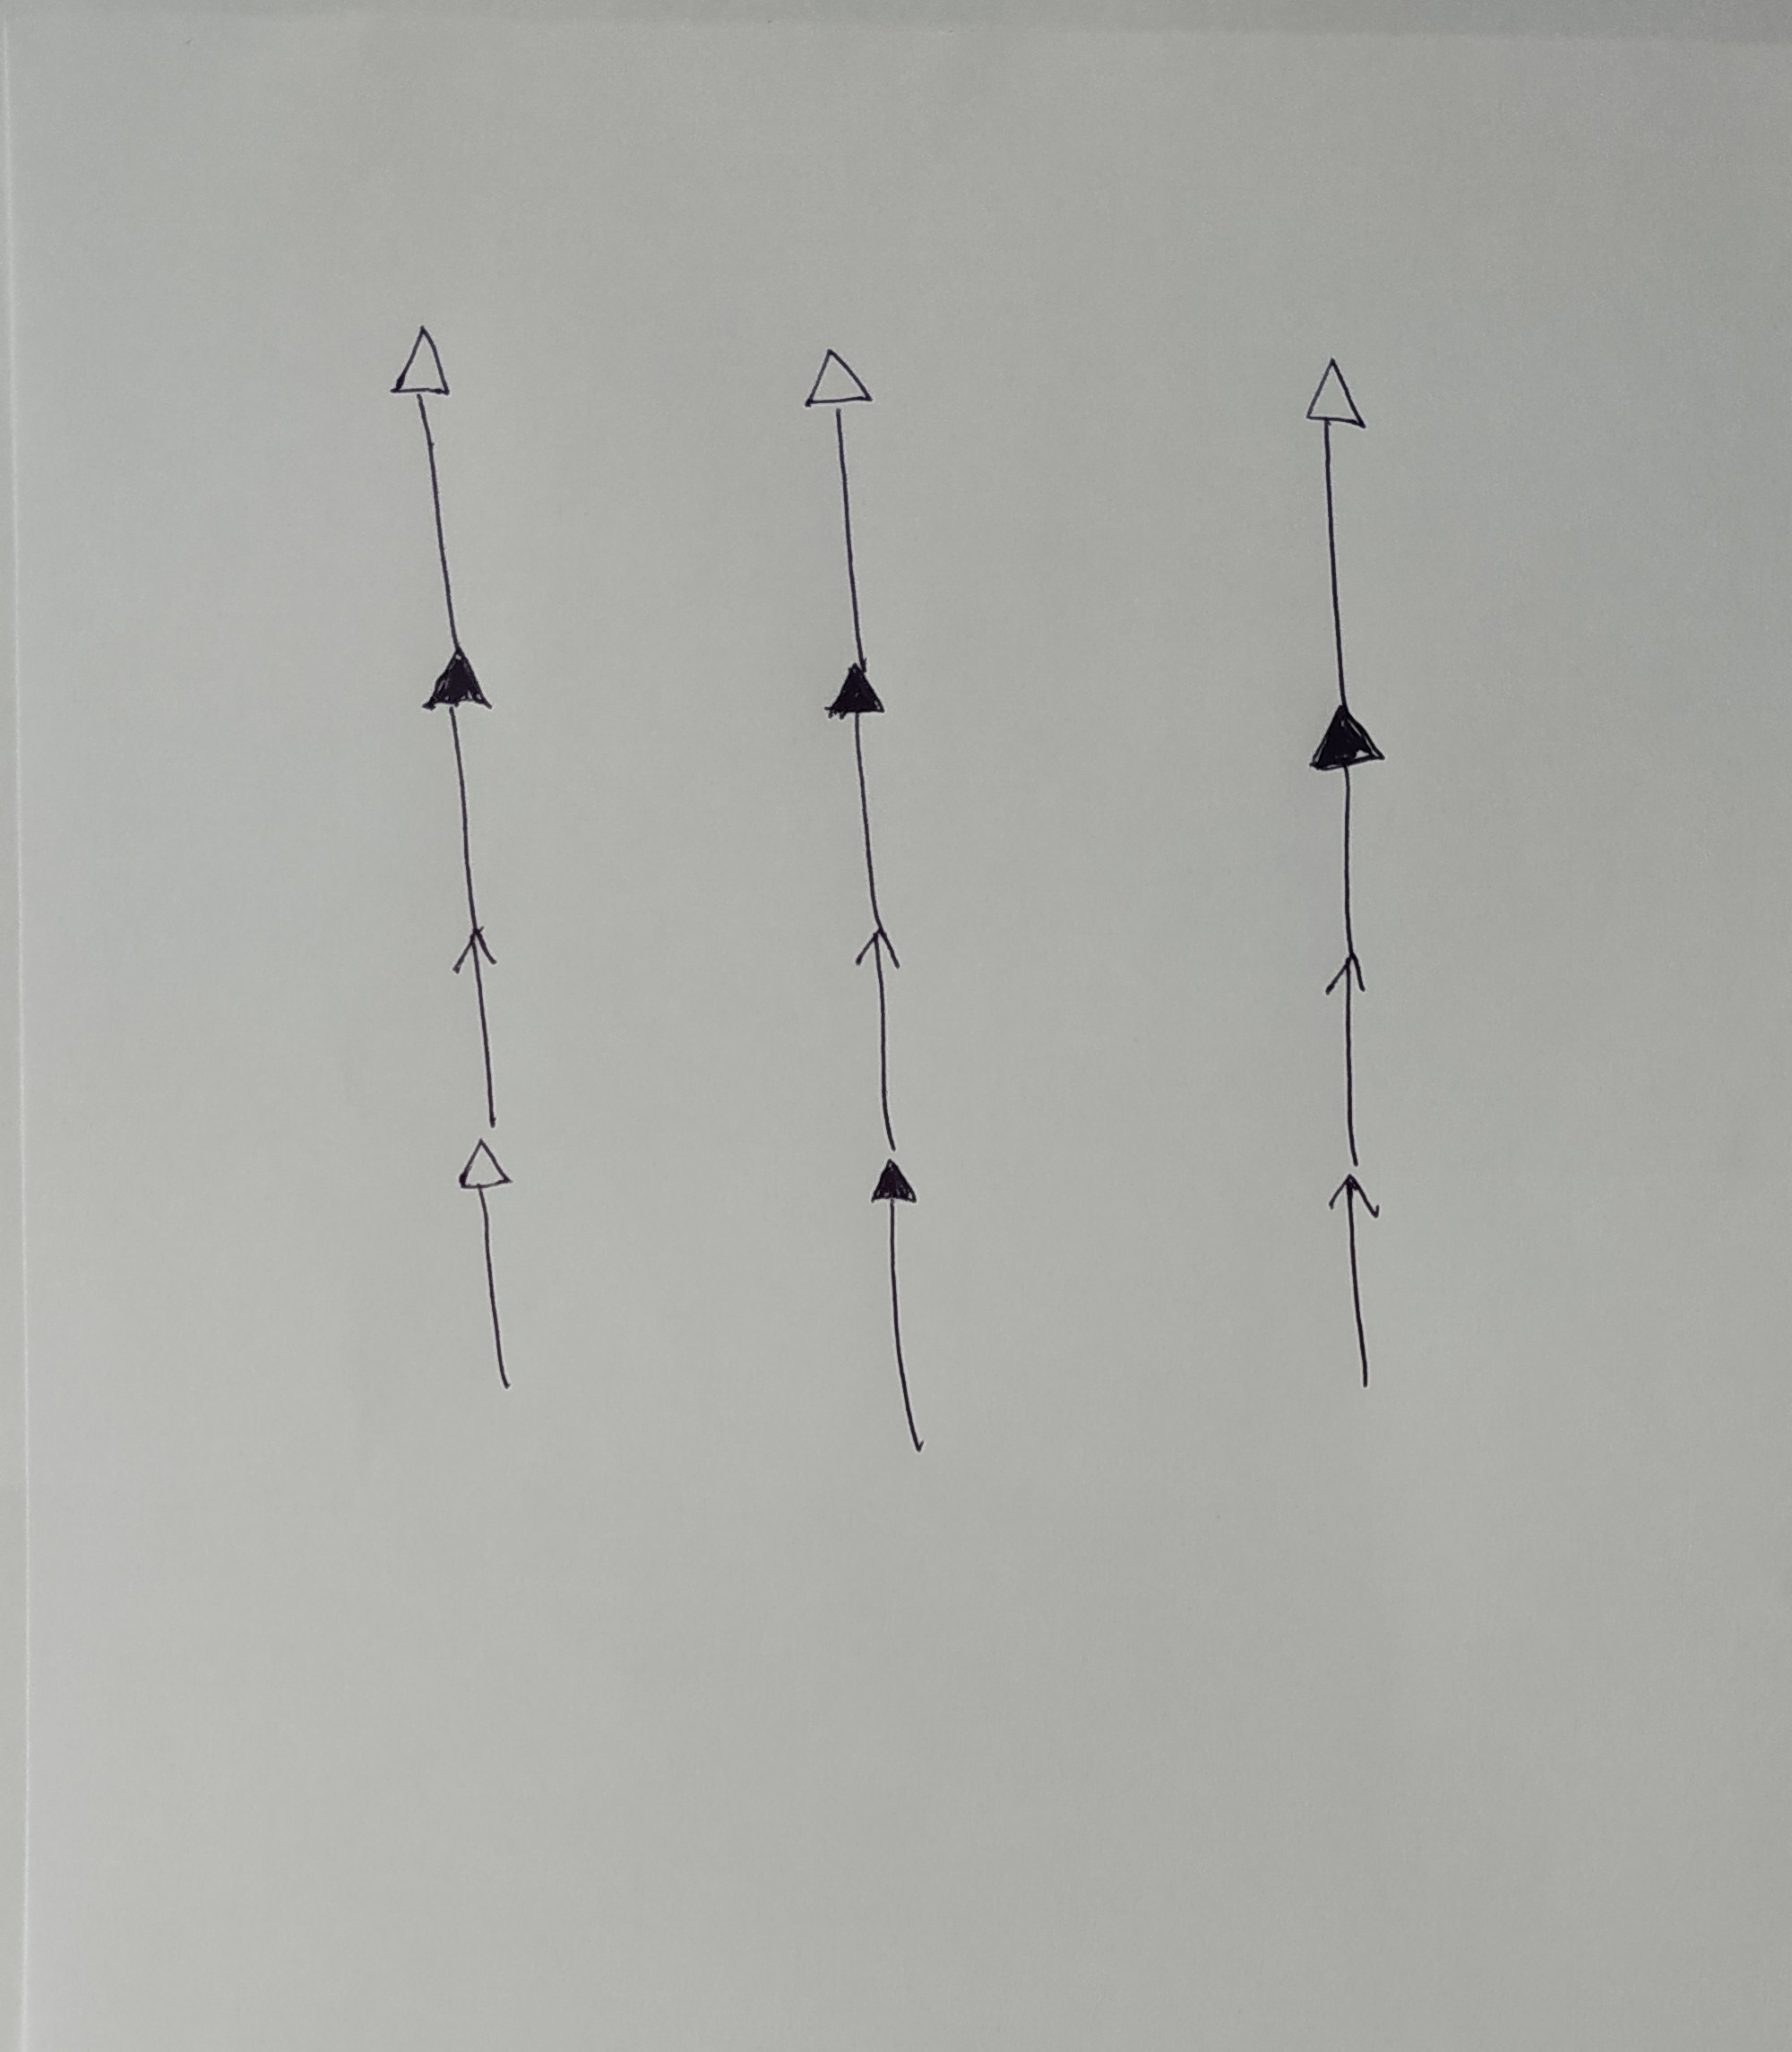arrow_line_up: (386, 323, 494, 649), (1300, 358, 1370, 707), (803, 347, 879, 663), (419, 653, 503, 928), (1305, 707, 1392, 958), (865, 1160, 935, 1462), (822, 665, 897, 930), (457, 1138, 522, 1398), (1326, 1174, 1387, 1398), (448, 932, 513, 1134), (852, 932, 909, 1153), (1323, 954, 1371, 1174)
